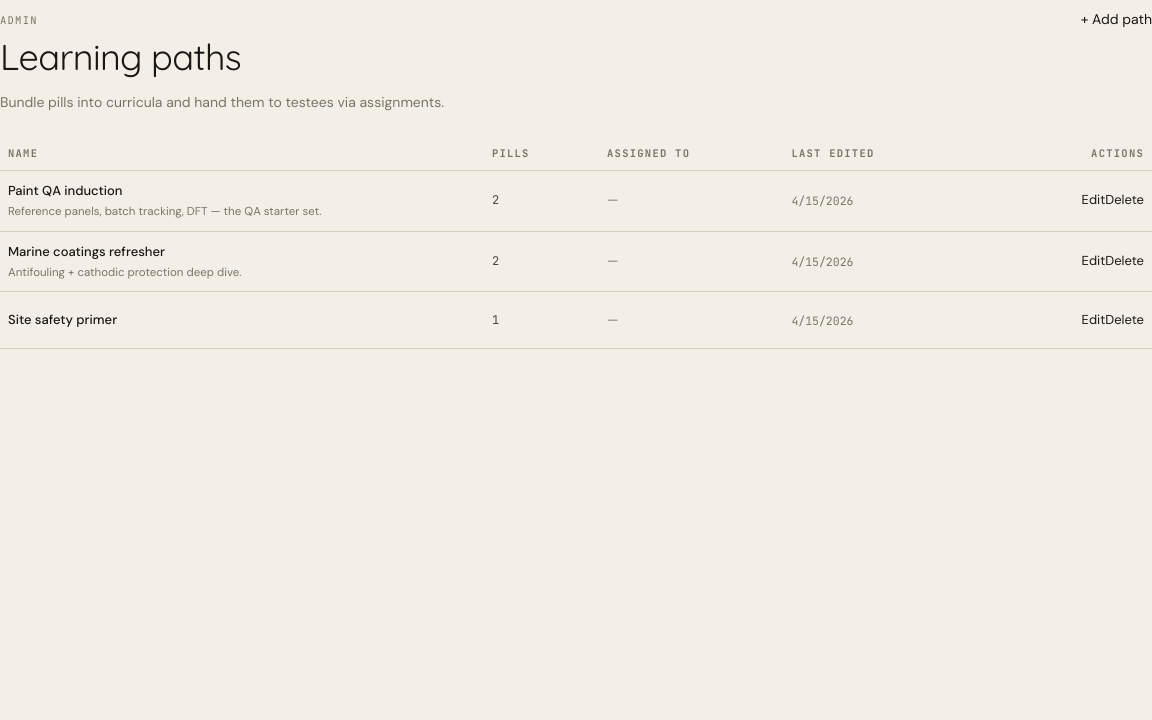
Test: paths list — Delete confirmation flow › opens DeletePathConfirmModal on Delete click
Check: the text "Paint QA induction" is shown, box [8,182,122,198]
Click the button "Delete" in the row of "Paint QA induction" at (1125, 200), box [1105,182,1144,218]
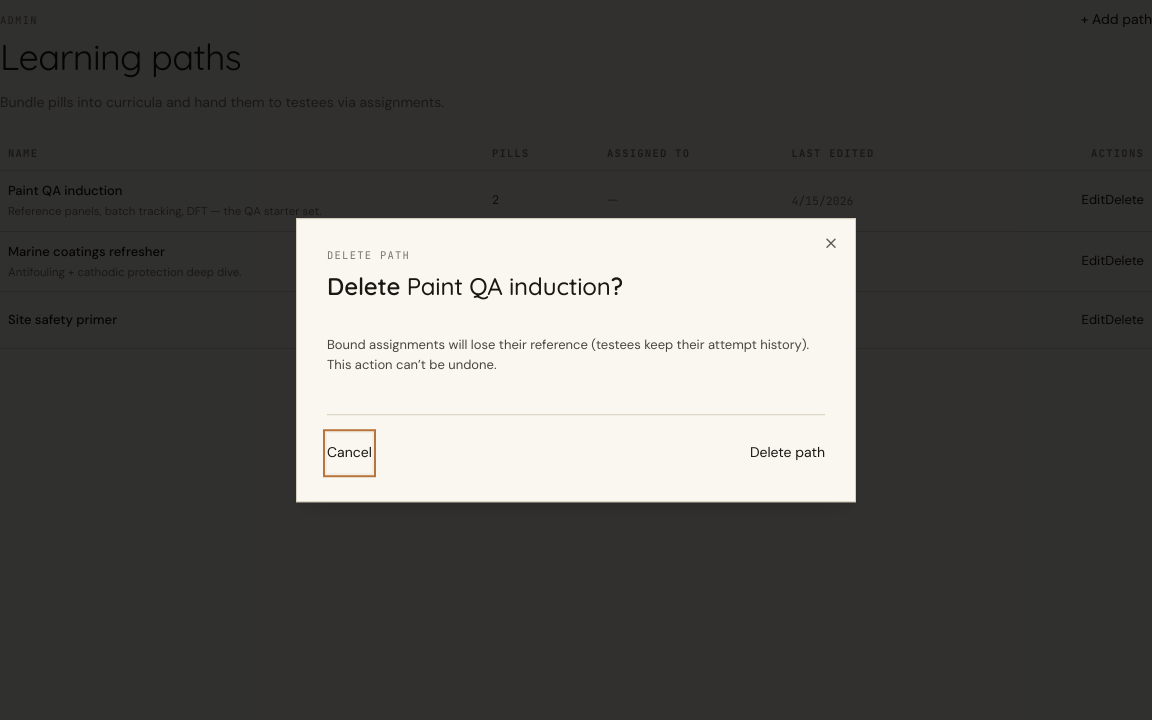
Check: the button with test id "paths-delete-confirm" is shown, box [750,433,825,473]
Check: the text "Bound assignments will lose their reference" is shown, box [327,336,809,374]
